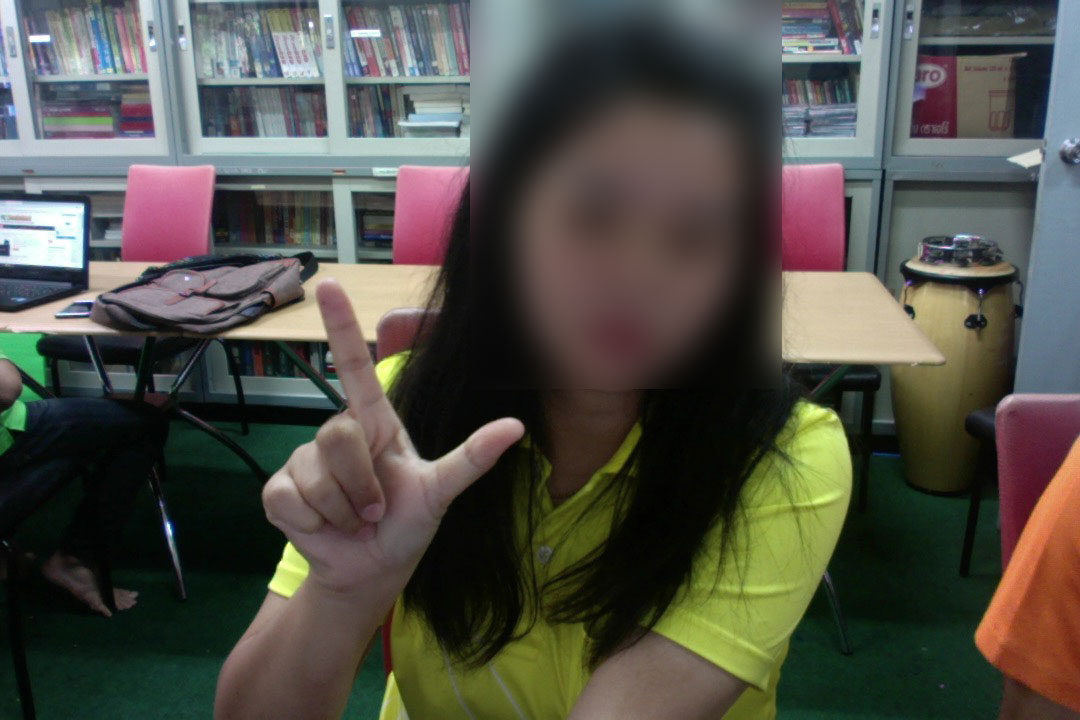lor: (246, 276, 534, 597)
